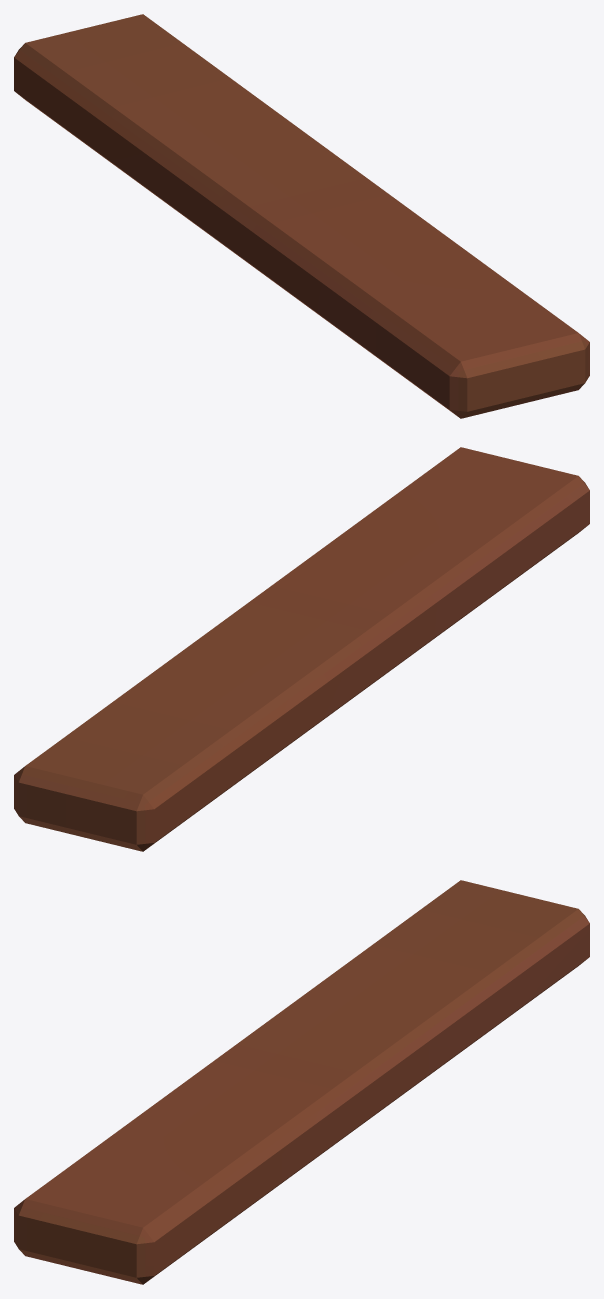
Rendered from Madero.FBX.
3 views of the same model, one above another, from view 1: azimuth 30°, elevation 25°; view 2: azimuth 150°, elevation 25°; view 3: azimuth 330°, elevation 25° (orthographic).
Parts seen in each view (by area): view 1: Madero; view 2: Madero; view 3: Madero.
Boxes of the visible parts, x1,y1,x2,y2 form: Madero: (14, 14, 589, 418); Madero: (14, 447, 589, 851); Madero: (14, 880, 589, 1284).
Size of the model in its own units: 12.46 by 4.85 by 68.94.
